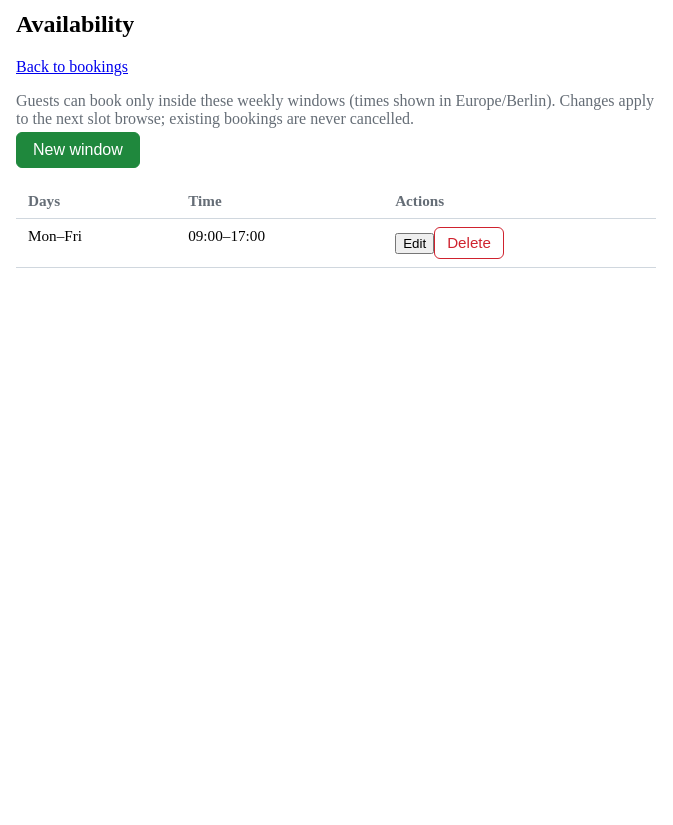
it: HostAvailabilityPage › surfaces a server validation error in the editor
This screenshot has width=673, height=825.
Check: the text "Mon–Fri" is shown, box [16,218,176,267]
Step 1. Click the button "New window" → (78, 150), box [16,132,140,168]
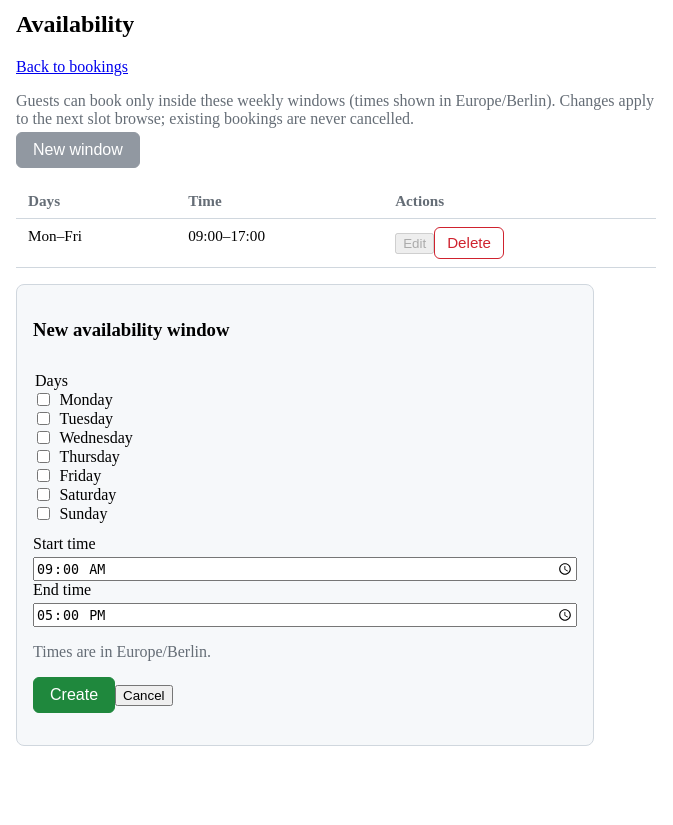
Step 2. Click the checkbox labelled "Saturday" → (44, 494), box [37,488,50,501]
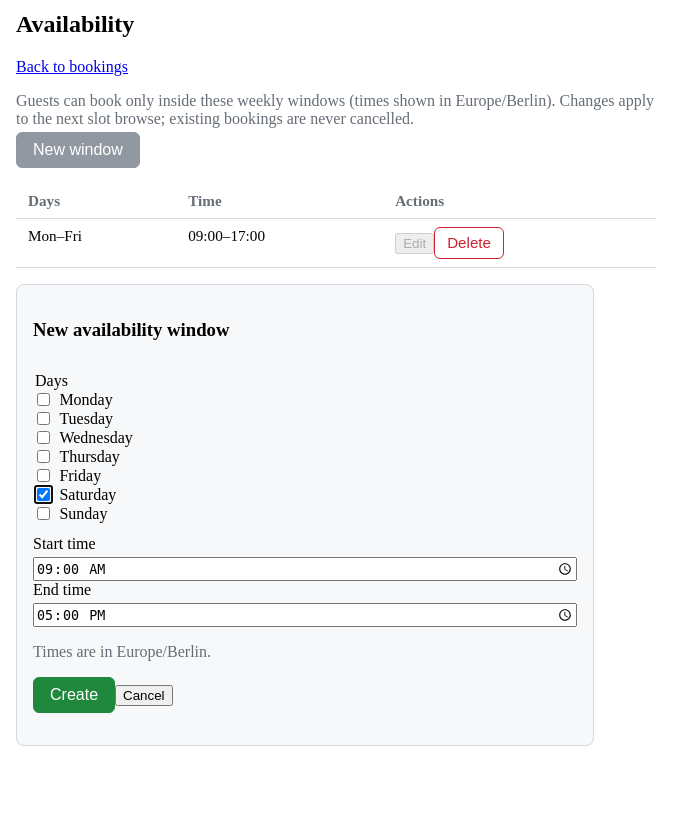
Step 3. Click the button "Create" → (74, 695), box [33,677,115,713]
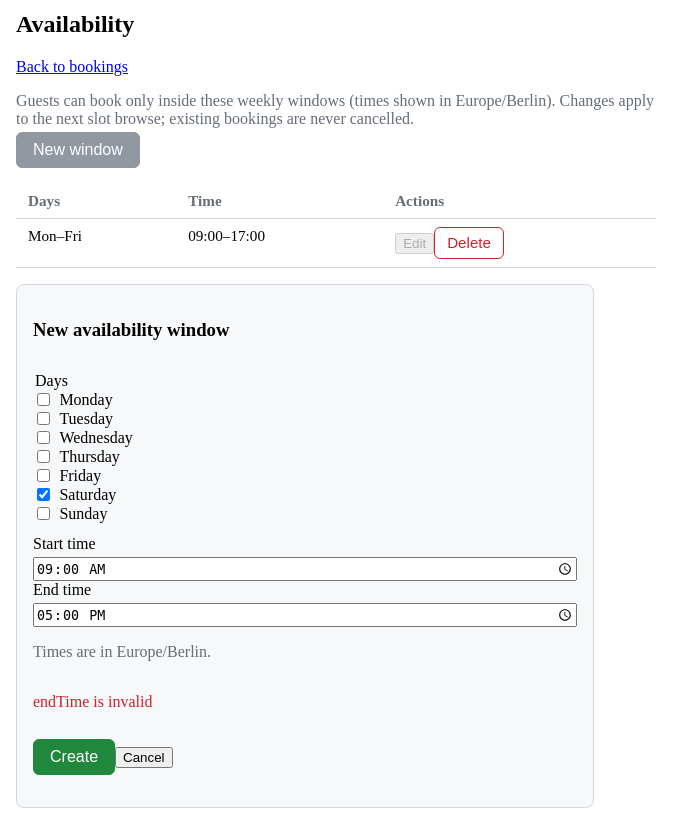
Check: the text "endTime is invalid" is shown, box [33,693,152,710]
